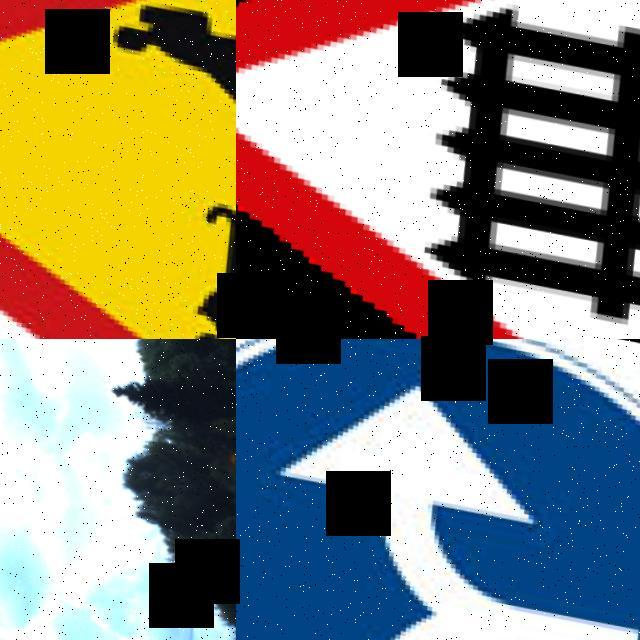141: (0, 0, 236, 339)
55: (220, 443, 236, 468)
94: (236, 339, 640, 640)
Guarded level crossing ahead: (236, 0, 640, 339)
